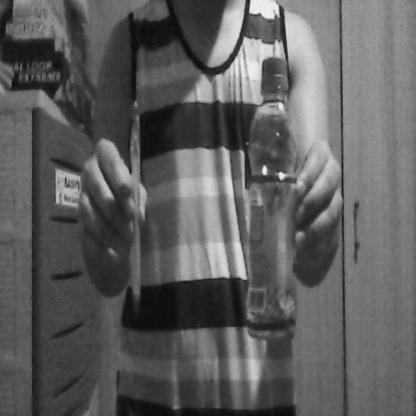Plastic Bottle: (238, 43, 307, 348)
